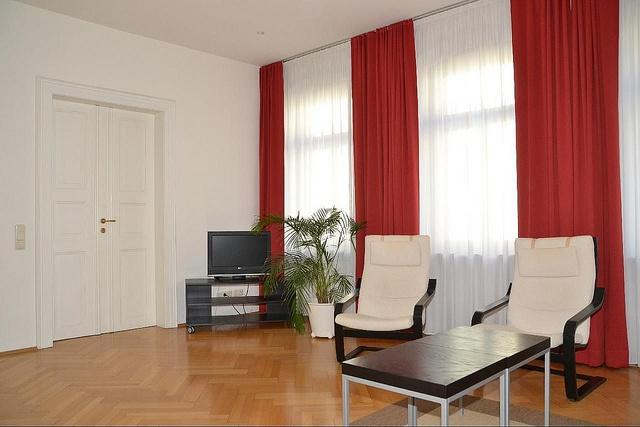AIO PC-Monitor-TV: (205, 229, 271, 280)
Meja: (339, 325, 550, 426)
